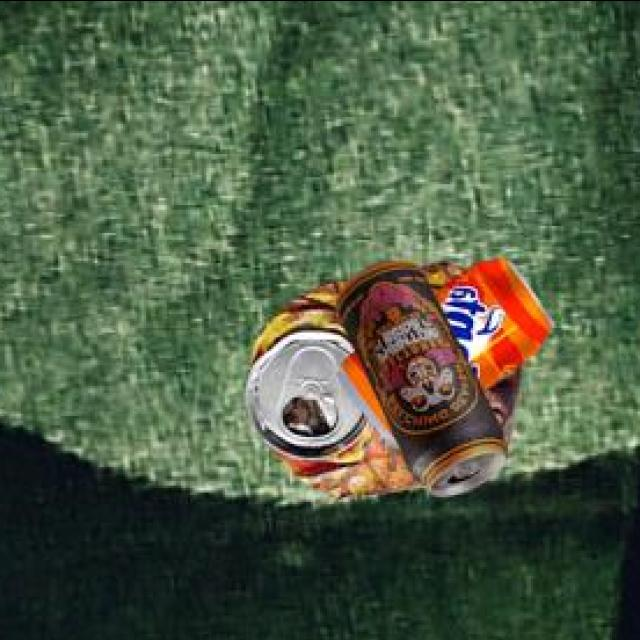logam: (249, 266, 525, 502), (342, 261, 555, 451), (340, 263, 509, 500)
